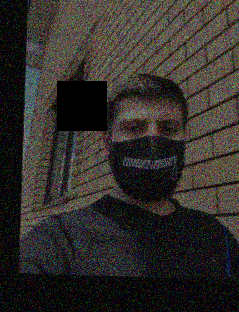with_mask: (107, 107, 188, 202)
